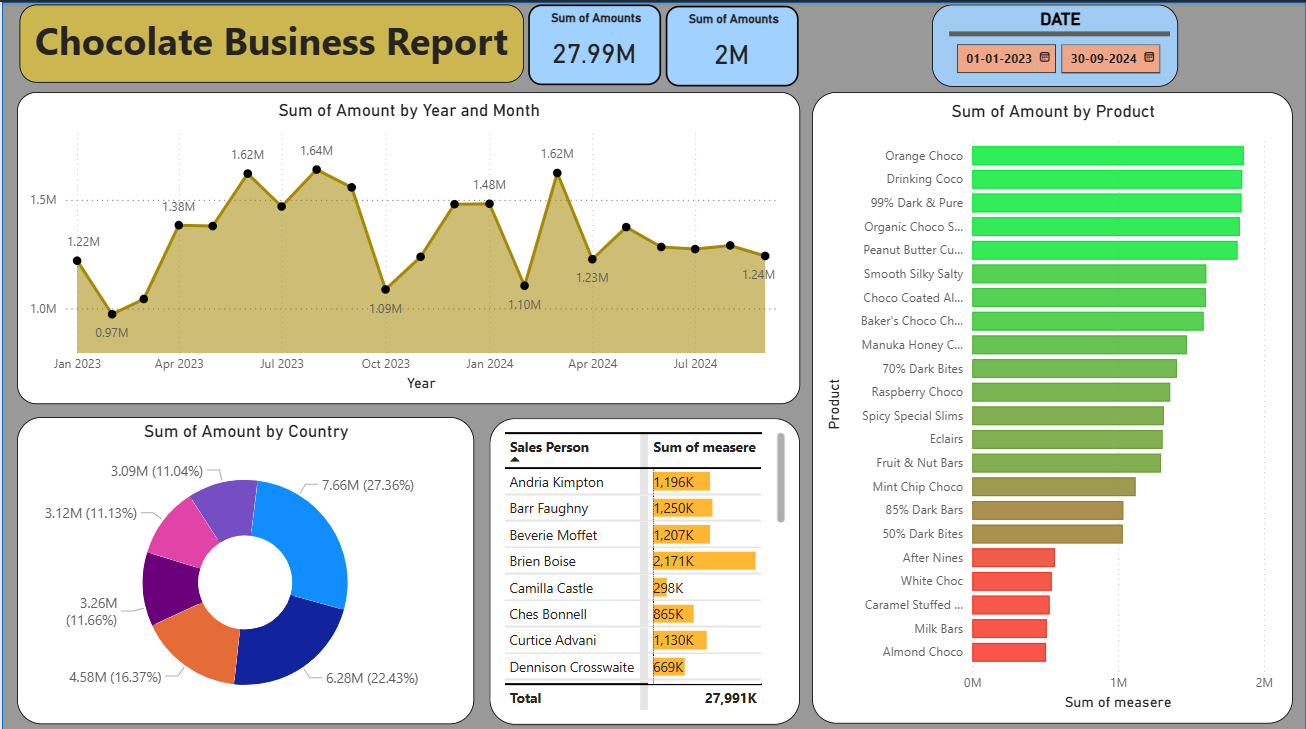

The dashboard page shown, as its layout file describes it:
{"tool":"powerbi","page":{"name":"My First Report","canvas":[1280,720],"ordinal":1},"visuals":[{"type":"shape","box":[0,0,1280.3,720.4],"z":0},{"type":"areaChart","fields":{"Y":["data.Amount"],"Category":["data.Date.Variation.Date Hierarchy.Year","data.Date.Variation.Date Hierarchy.Month"]},"box":[15.1,87.8,768.4,306],"z":1000},{"type":"donutChart","title":"                      Sum of Amount by Country","fields":{"Category":["data.Country"],"Y":["data.Sum of measere"]},"box":[15.1,407.5,448.7,301.9],"z":2000},{"type":"textbox","box":[17.6,2.7,495.4,76.8],"z":3000},{"type":"tableEx","fields":{"Values":["data.Sales Person","data.Sum of measere"]},"box":[478.9,408.9,304.6,300.5],"z":4000},{"type":"clusteredBarChart","title":"Sum of Amount by Product","fields":{"Y":["data.Sum of measere"],"Category":["data.Product"]},"box":[794.5,87.8,472,620.2],"z":5000},{"type":"card","title":"Sum of Amounts","fields":{"Values":["data.Sum of measere"]},"box":[517.1,2.7,130.4,79.6],"z":6000},{"type":"card","title":"Sum of Amounts","fields":{"Values":["data.Sum Of Boxes"]},"box":[651.3,4.1,130.4,79.6],"z":7000},{"type":"slicer","title":"DATE","fields":{"Values":["data.Date"]},"box":[912.5,2.7,241.5,81],"z":8000}]}

Visuals, with their boxes in screenshot pixels (x1, y1, x2, y2), scaled from the page's 1280x720 canvas onto the 1306x729 screenshot:
shape: Rect(0, 0, 1305, 728)
areaChart - data.Amount x data.Date.Variation.Date Hierarchy.Year: Rect(15, 89, 799, 399)
"                      Sum of Amount by Country" donutChart: Rect(15, 413, 473, 718)
textbox: Rect(18, 3, 523, 80)
tableEx - data.Sales Person x data.Sum of measere: Rect(489, 414, 799, 718)
"Sum of Amount by Product" clusteredBarChart: Rect(811, 89, 1292, 717)
"Sum of Amounts" card: Rect(528, 3, 661, 83)
"Sum of Amounts" card: Rect(665, 4, 798, 85)
"DATE" slicer: Rect(931, 3, 1177, 85)
